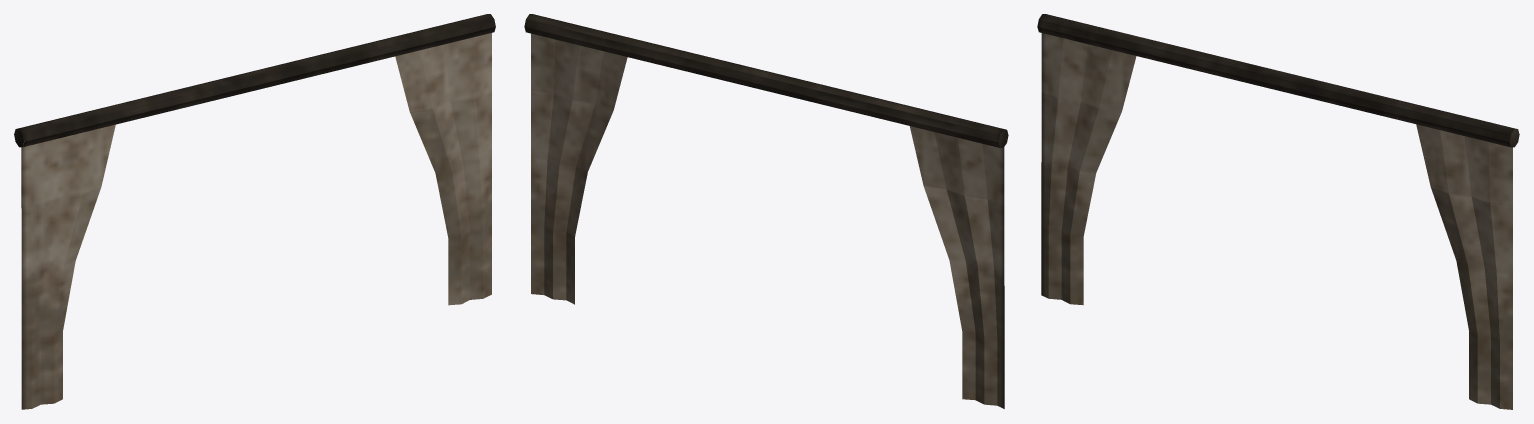
Rendered from SM_EC_House_Curtain_02.fbx.
The picture shows the model from 3 angles, left to right: view 1: azimuth 30°, elevation 25°; view 2: azimuth 150°, elevation 25°; view 3: azimuth 330°, elevation 25°; orthographic projection.
Visible parts, largest first — view 1: SM_EC_House_Curtain_02; view 2: SM_EC_House_Curtain_02; view 3: SM_EC_House_Curtain_02.
Boxes of the visible parts, <box> form: SM_EC_House_Curtain_02: <box>14,14,495,409</box>; SM_EC_House_Curtain_02: <box>524,14,1008,408</box>; SM_EC_House_Curtain_02: <box>1037,14,1519,409</box>.
Size of the model in its own units: 3.01 by 0.1112 by 1.7.
